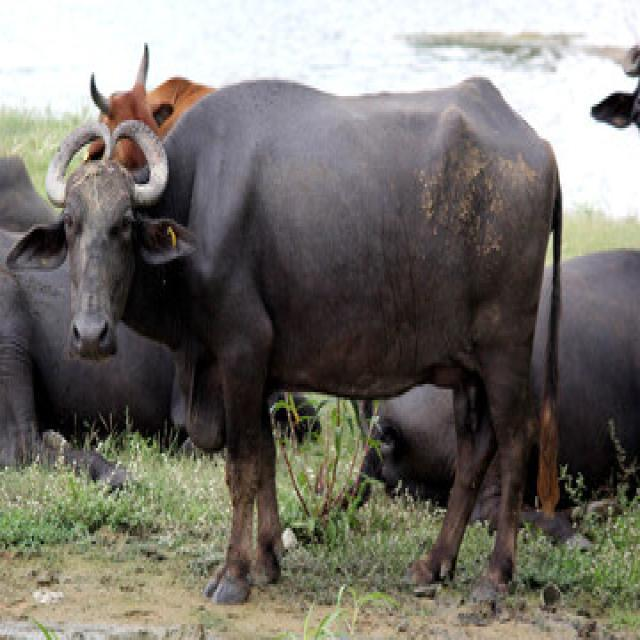Buffalo: (4, 77, 563, 608)
